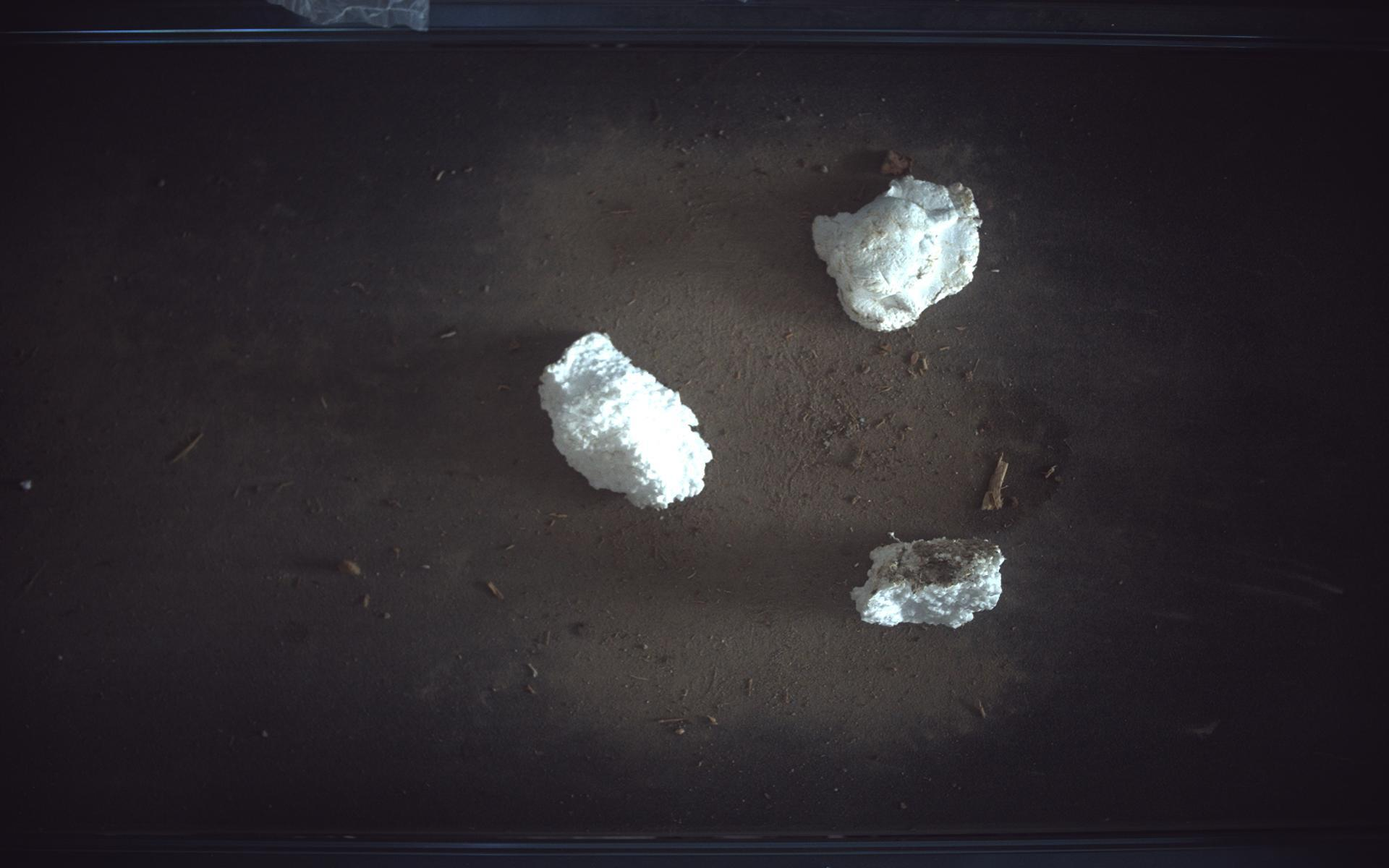foam: (539, 333, 713, 509), (814, 174, 983, 331), (853, 538, 1006, 629)
